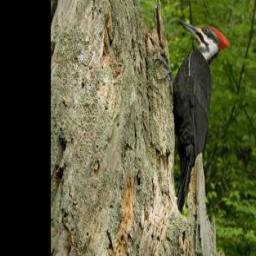Woodpecker: (154, 19, 231, 216)
